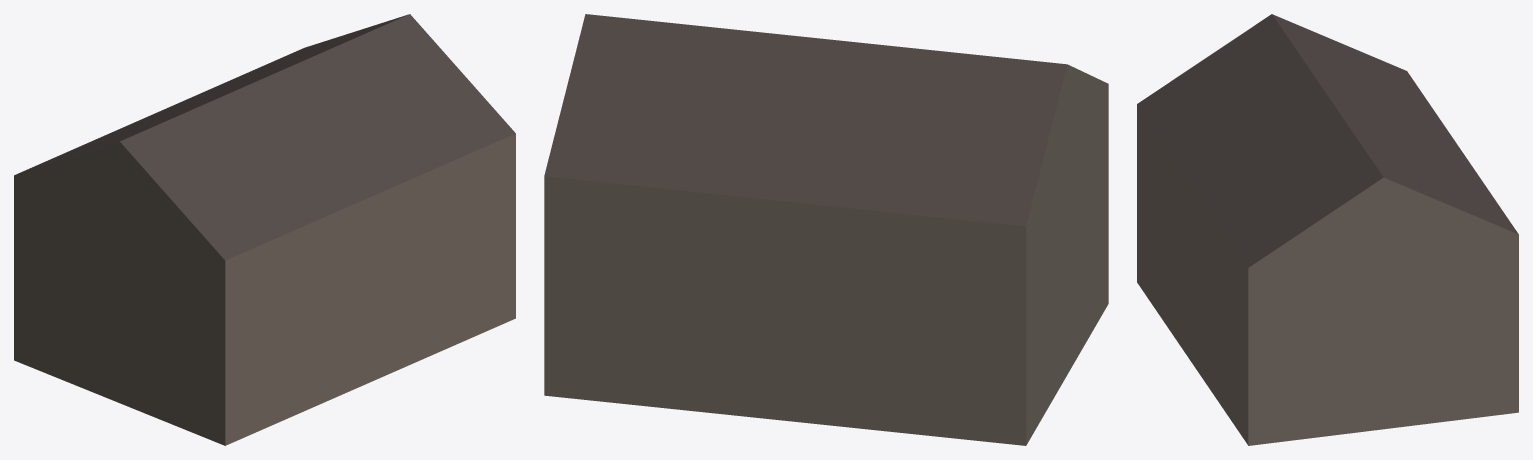
3 renders of one model, left to right at view 1: azimuth 30°, elevation 25°; view 2: azimuth 150°, elevation 25°; view 3: azimuth 270°, elevation 25°, orthographic. The views are drawn at different scales.
Parts seen in each view (by area): view 1: HP-w1198020609; view 2: HP-w1198020609; view 3: HP-w1198020609.
Boxes of the visible parts, bbox=[...] form: HP-w1198020609: bbox=[14, 14, 515, 445]; HP-w1198020609: bbox=[544, 14, 1108, 445]; HP-w1198020609: bbox=[1137, 14, 1518, 445].
Bounding box in the file's own units: 14.23 × 8.48 × 11.66.
